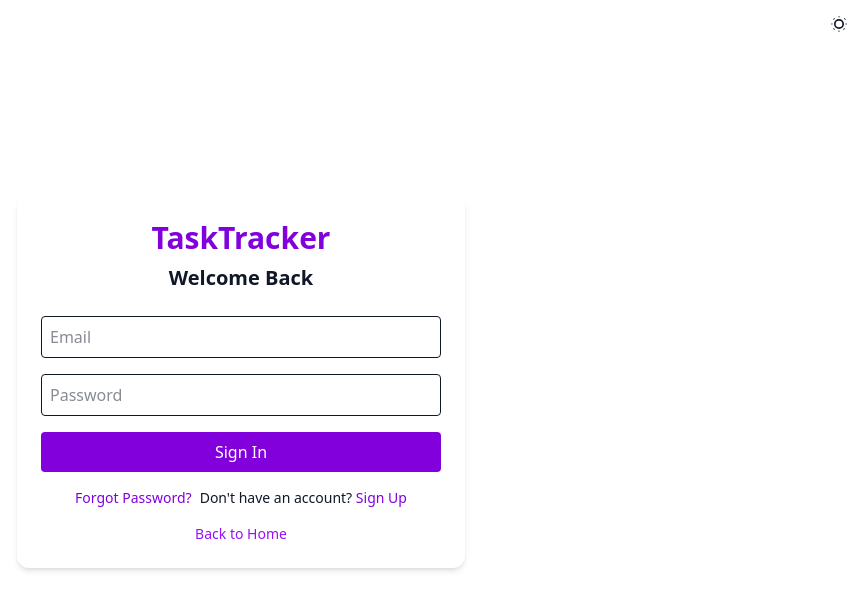
Test: LoginPage › disables button and shows loading text while submitting
The image size is (864, 589).
Type "test@example.com" into the field with placeholder "Email".
click(241, 337); type("test@example.com")  # box [41,316,441,358]
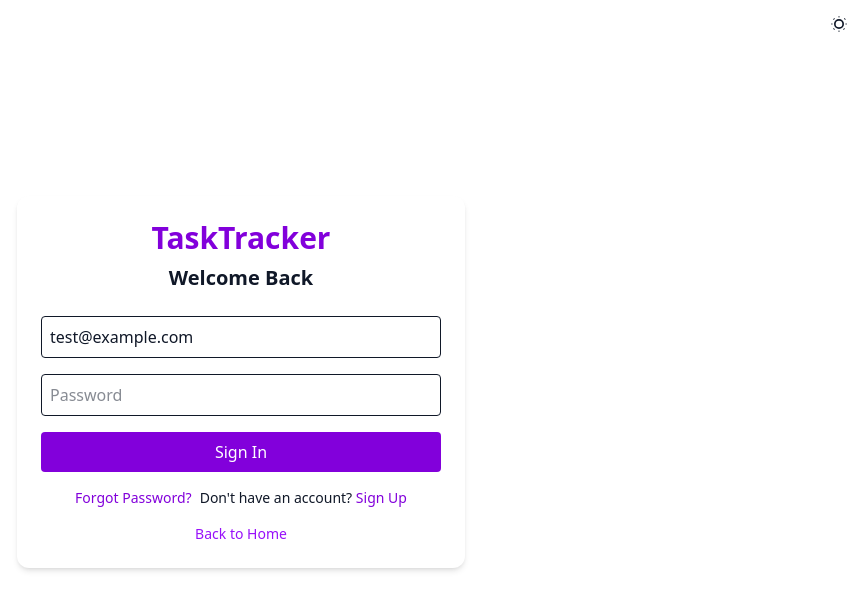
Type "rightpass" into the password field with placeholder "Password".
click(241, 395); type("rightpass")  # box [41,374,441,416]
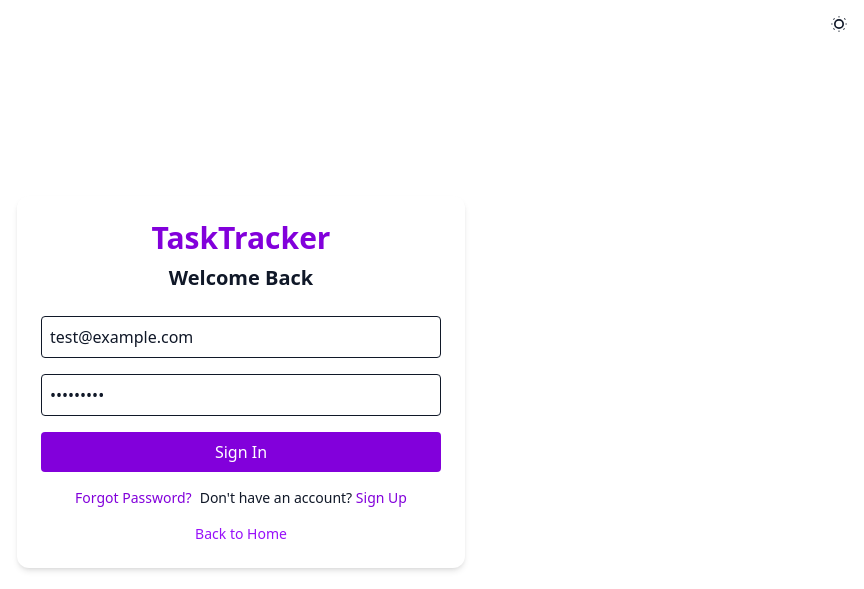
Click the button "Sign In".
click(241, 452)  # box [41,432,441,472]
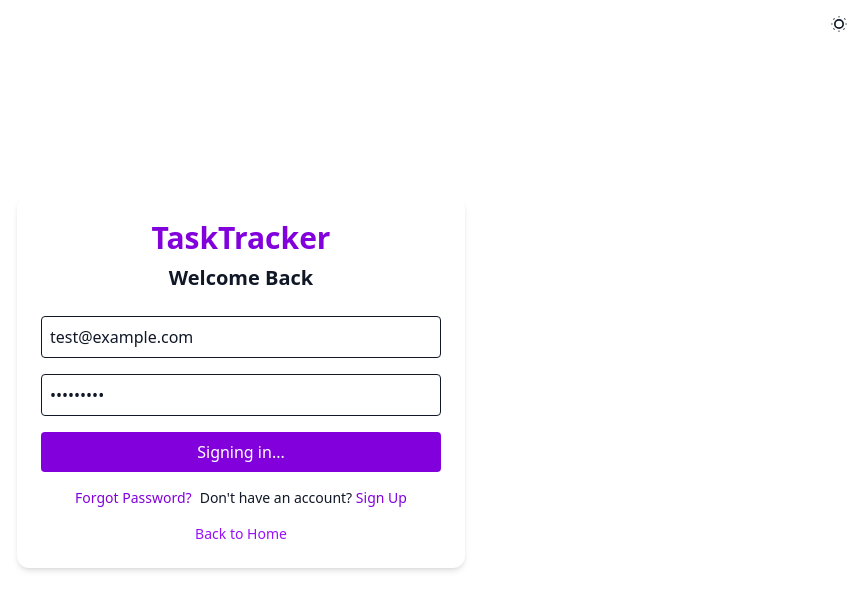
Now the button "Signing in..." is disabled, box [41,432,441,472]
